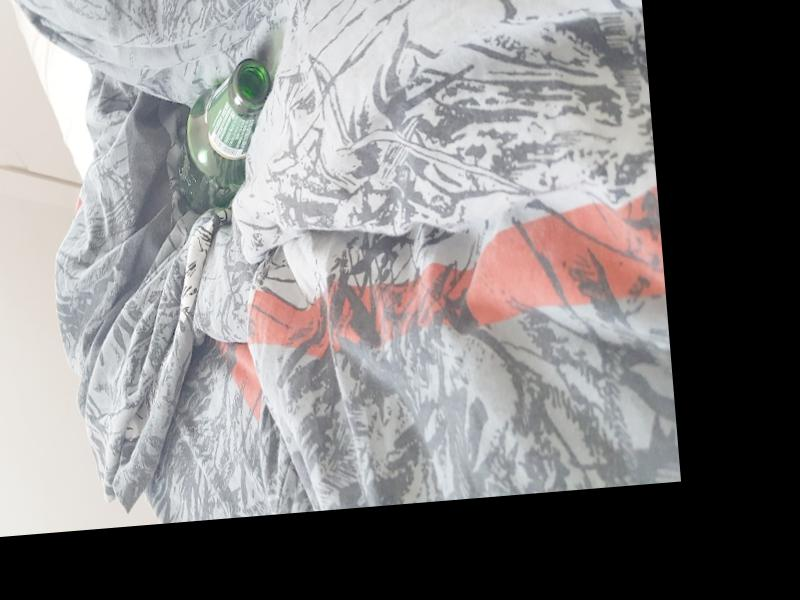Beer: (168, 55, 282, 218)
